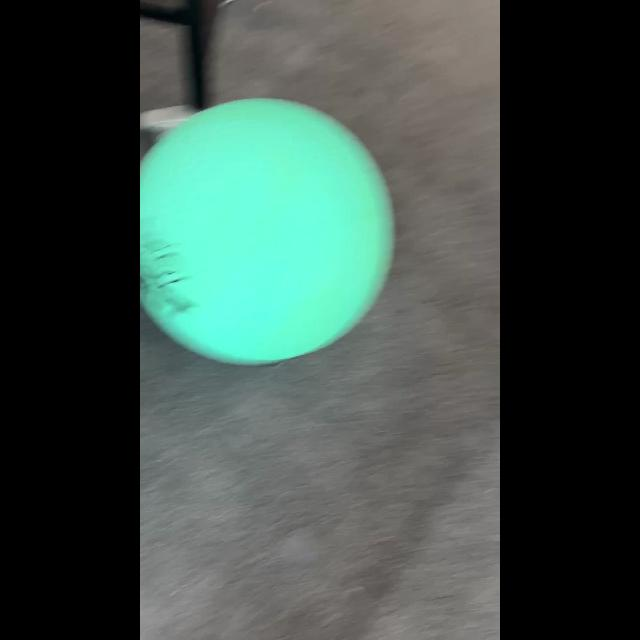ALGAE: (140, 96, 396, 366)
